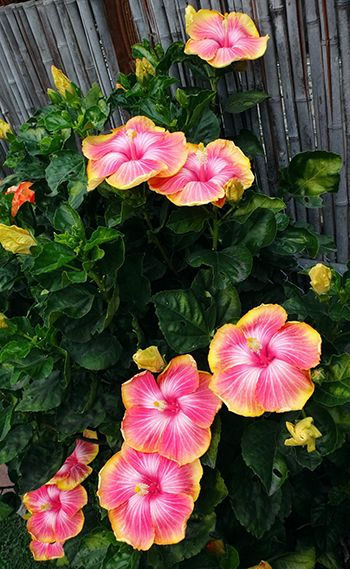Hibiscus: (87, 118, 248, 204), (207, 306, 321, 422), (98, 439, 207, 550), (104, 375, 229, 458), (25, 435, 98, 569), (175, 6, 274, 73), (40, 50, 86, 120), (300, 254, 342, 303), (4, 223, 44, 265), (130, 340, 176, 370), (129, 50, 155, 91), (219, 182, 249, 215), (1, 119, 29, 154)
